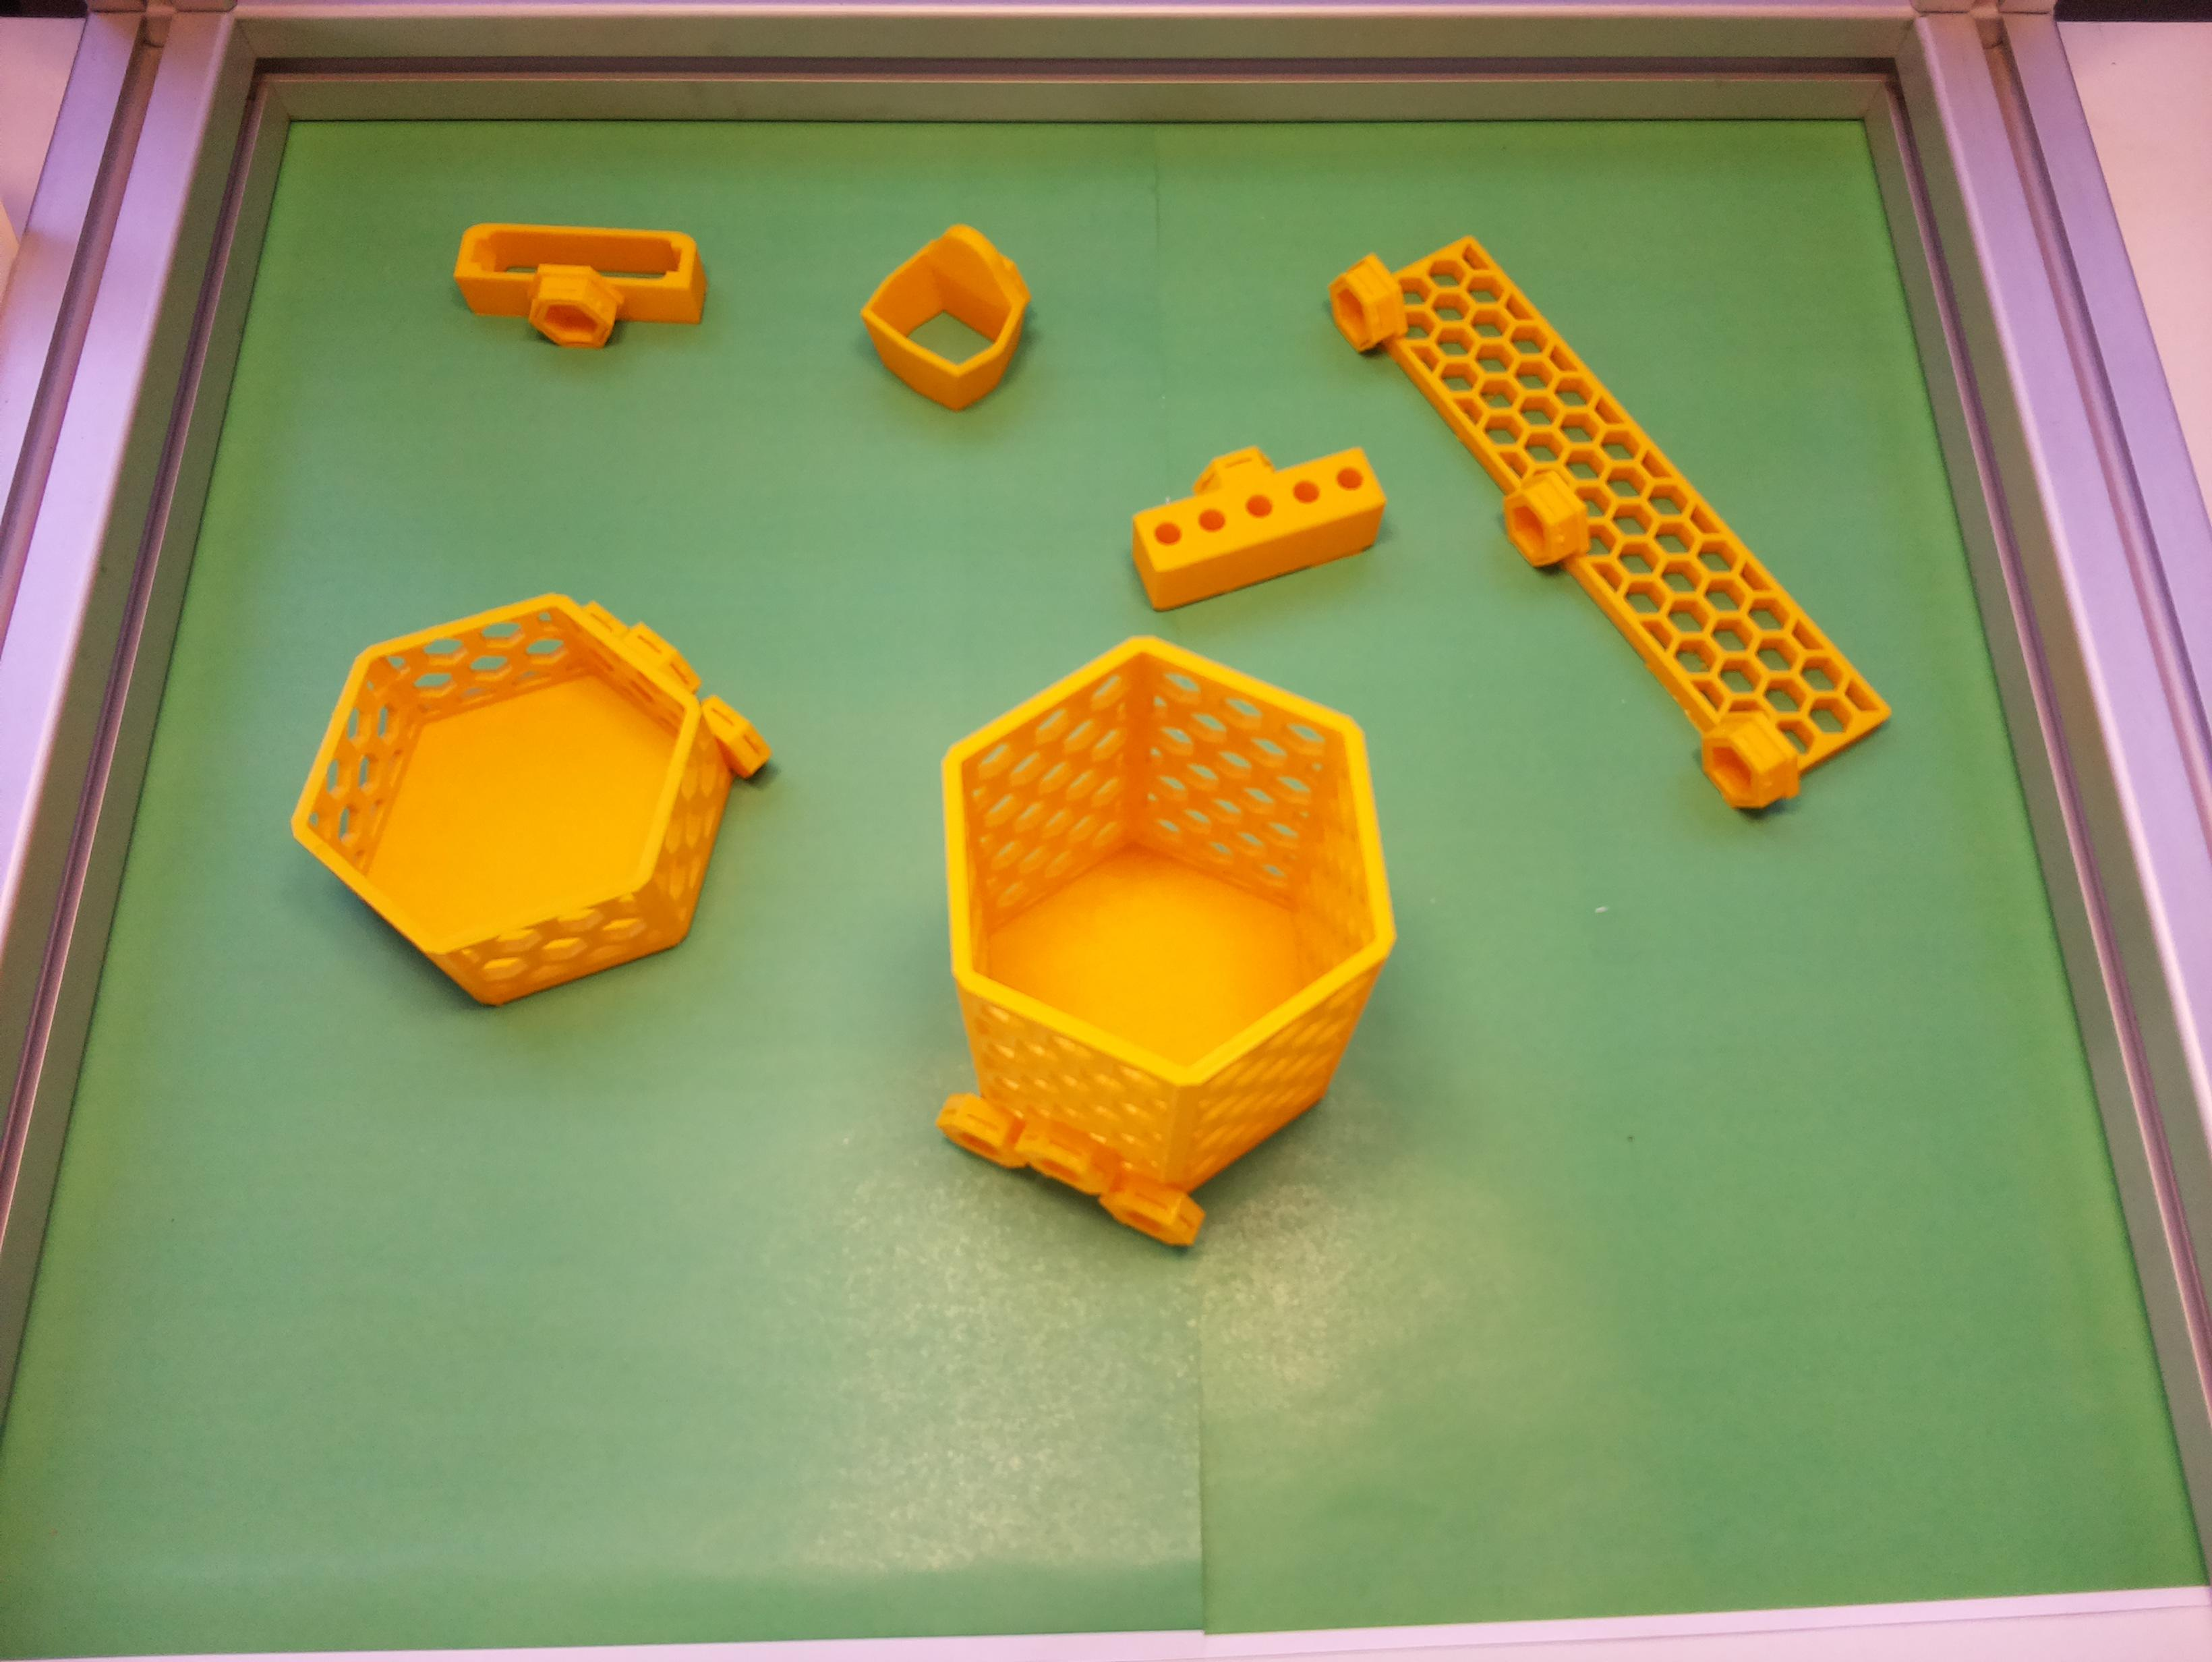bit_holder: (1114, 415, 1397, 613)
bottle_holder: (239, 496, 822, 1075)
cup_holder: (800, 571, 1472, 1276)
cutter_holder: (454, 222, 707, 353)
scissor_holder: (843, 206, 1065, 428)
tool_holder: (1295, 194, 1894, 834)
